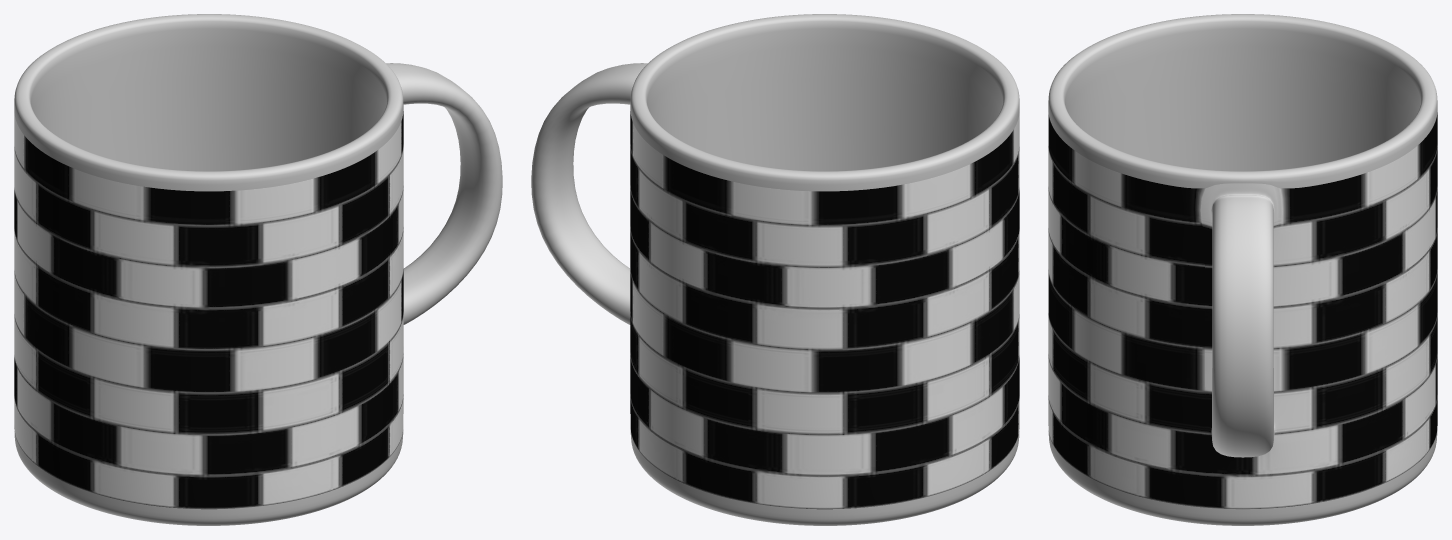
The picture shows the model from 3 angles, left to right: view 1: azimuth 30°, elevation 25°; view 2: azimuth 150°, elevation 25°; view 3: azimuth 270°, elevation 25°; orthographic projection.
Visible parts, largest first — view 1: Object_3, Object_2; view 2: Object_3, Object_2; view 3: Object_3, Object_2.
Boxes of the visible parts, x1=… form: Object_3: x1=14, y1=111, x2=403, y2=509; Object_2: x1=14, y1=14, x2=502, y2=525; Object_3: x1=630, y1=111, x2=1019, y2=509; Object_2: x1=531, y1=14, x2=1019, y2=525; Object_3: x1=1048, y1=112, x2=1437, y2=509; Object_2: x1=1048, y1=14, x2=1437, y2=525.
Size of the model in its own units: 2.67 by 2 by 1.99.
Materials: 2 (1 with a texture image).
